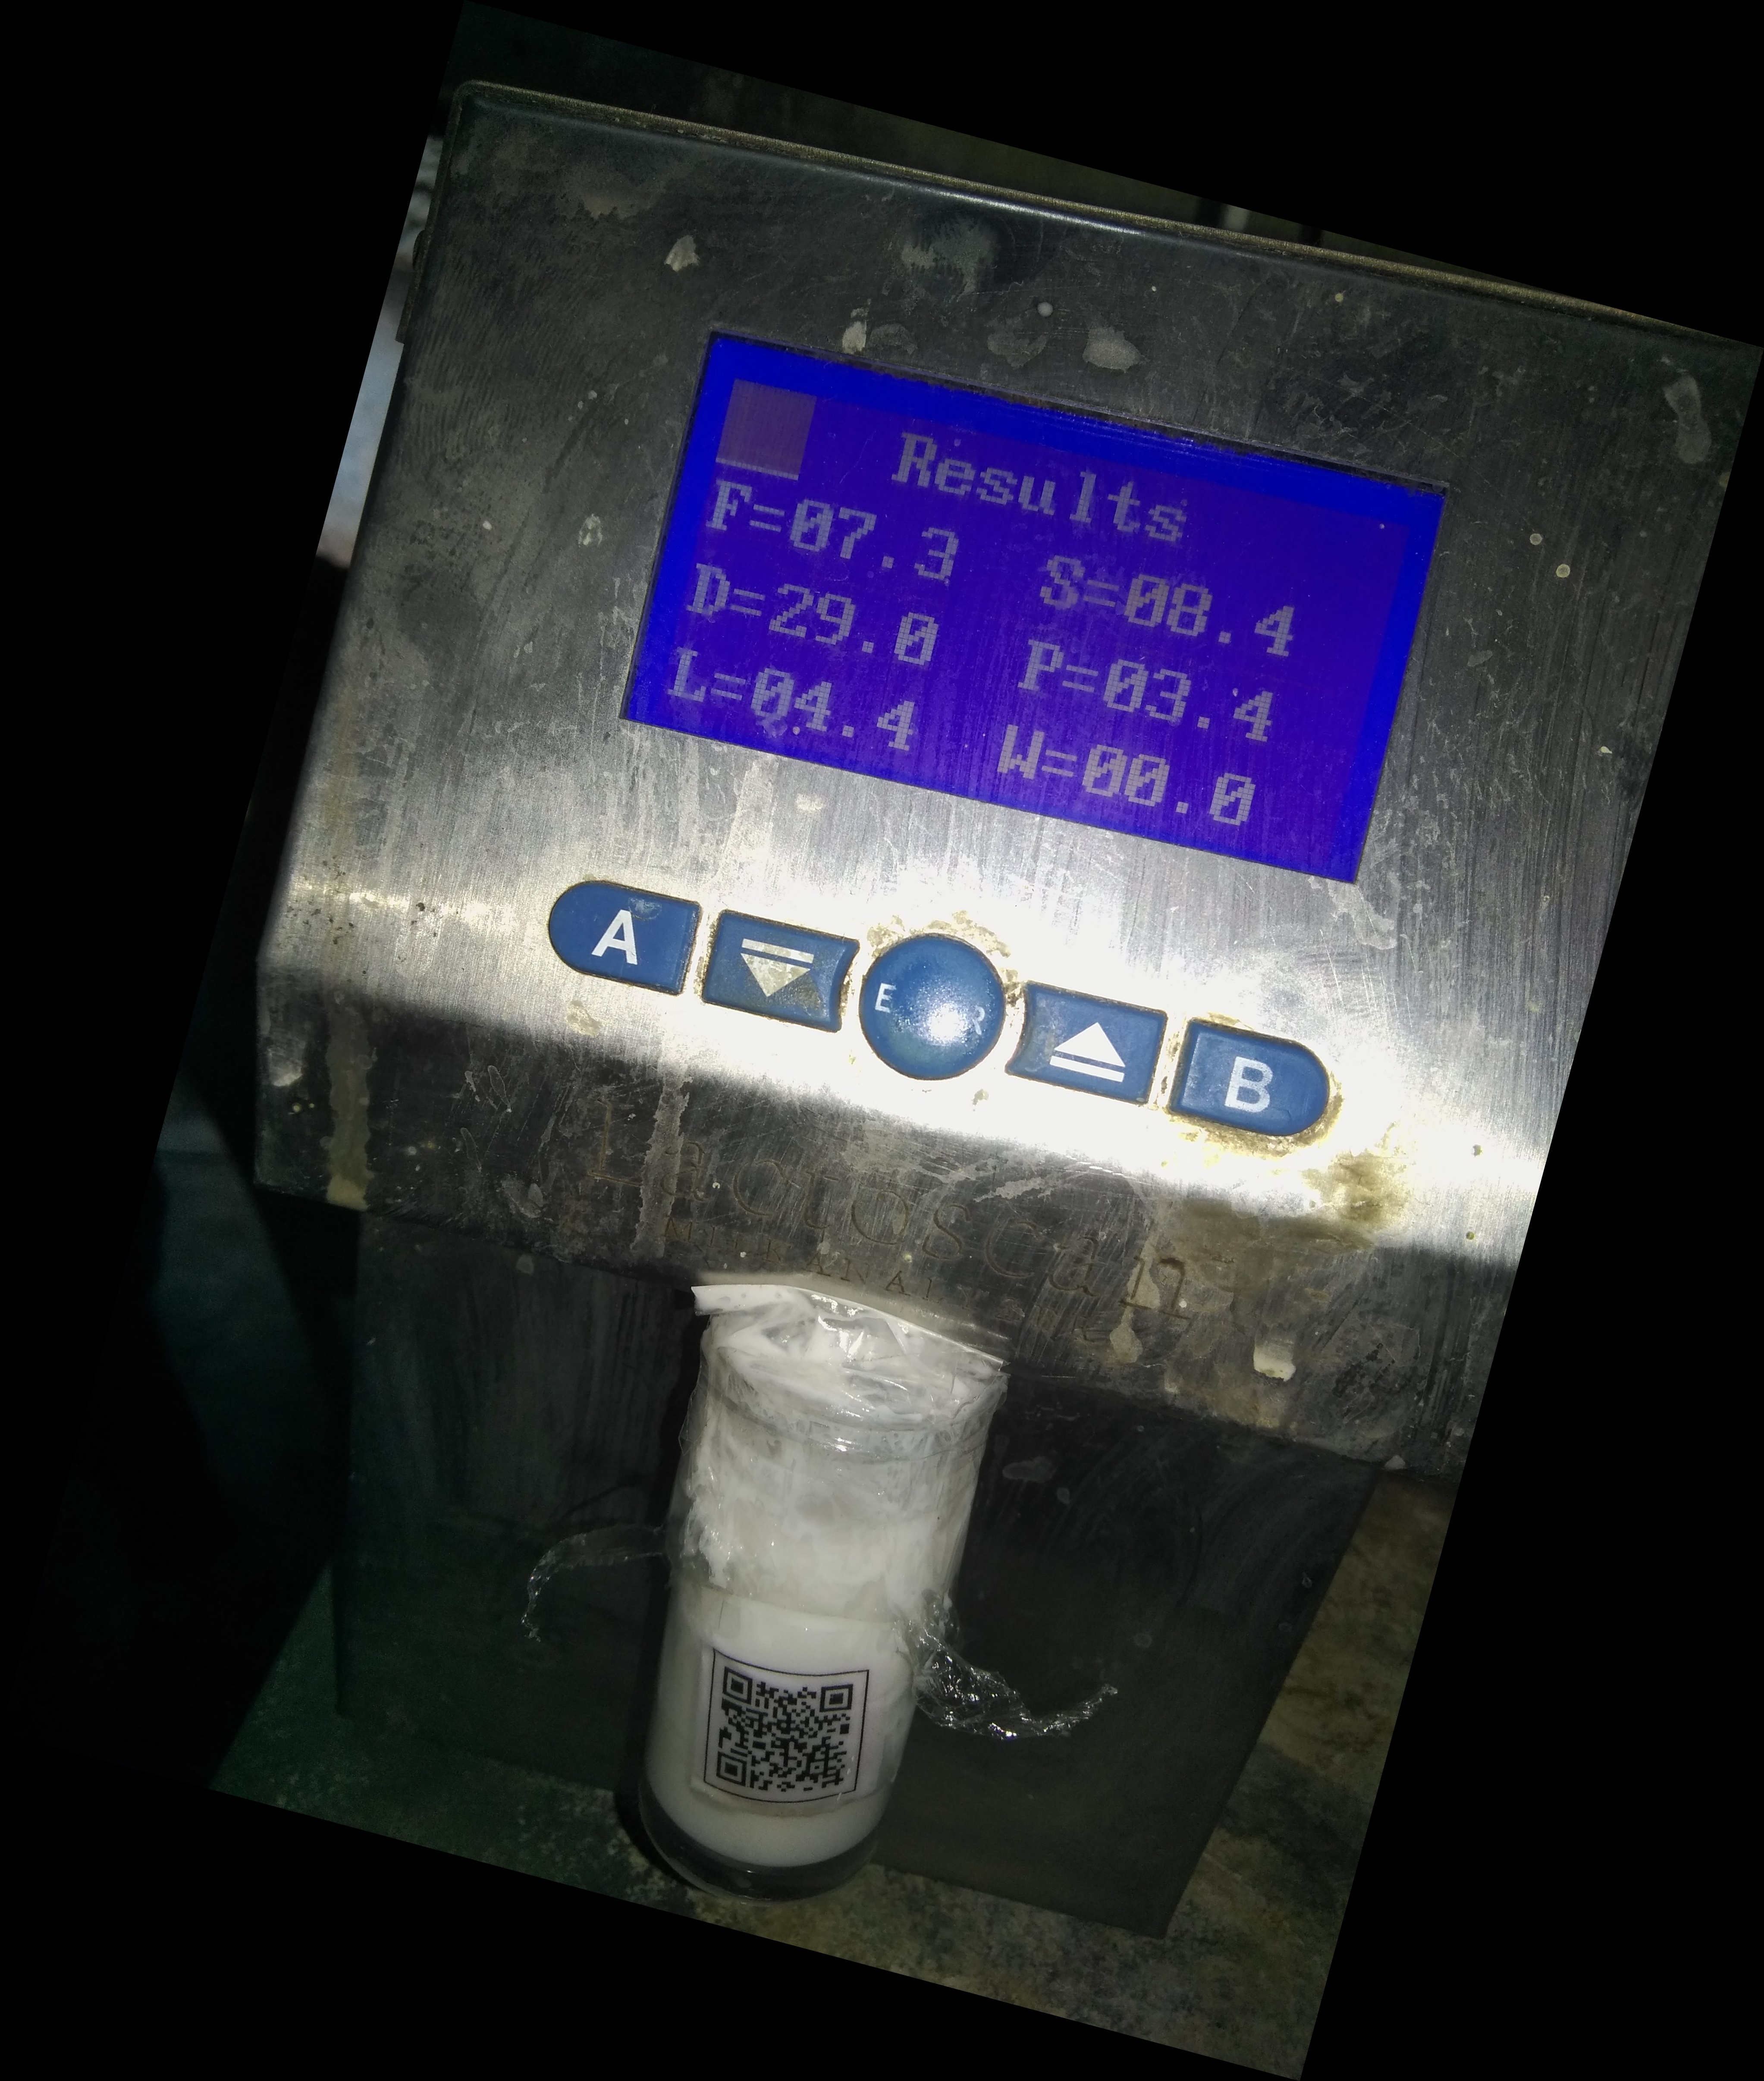lcd: (618, 310, 1459, 935)
qr: (688, 1643, 884, 1827)
